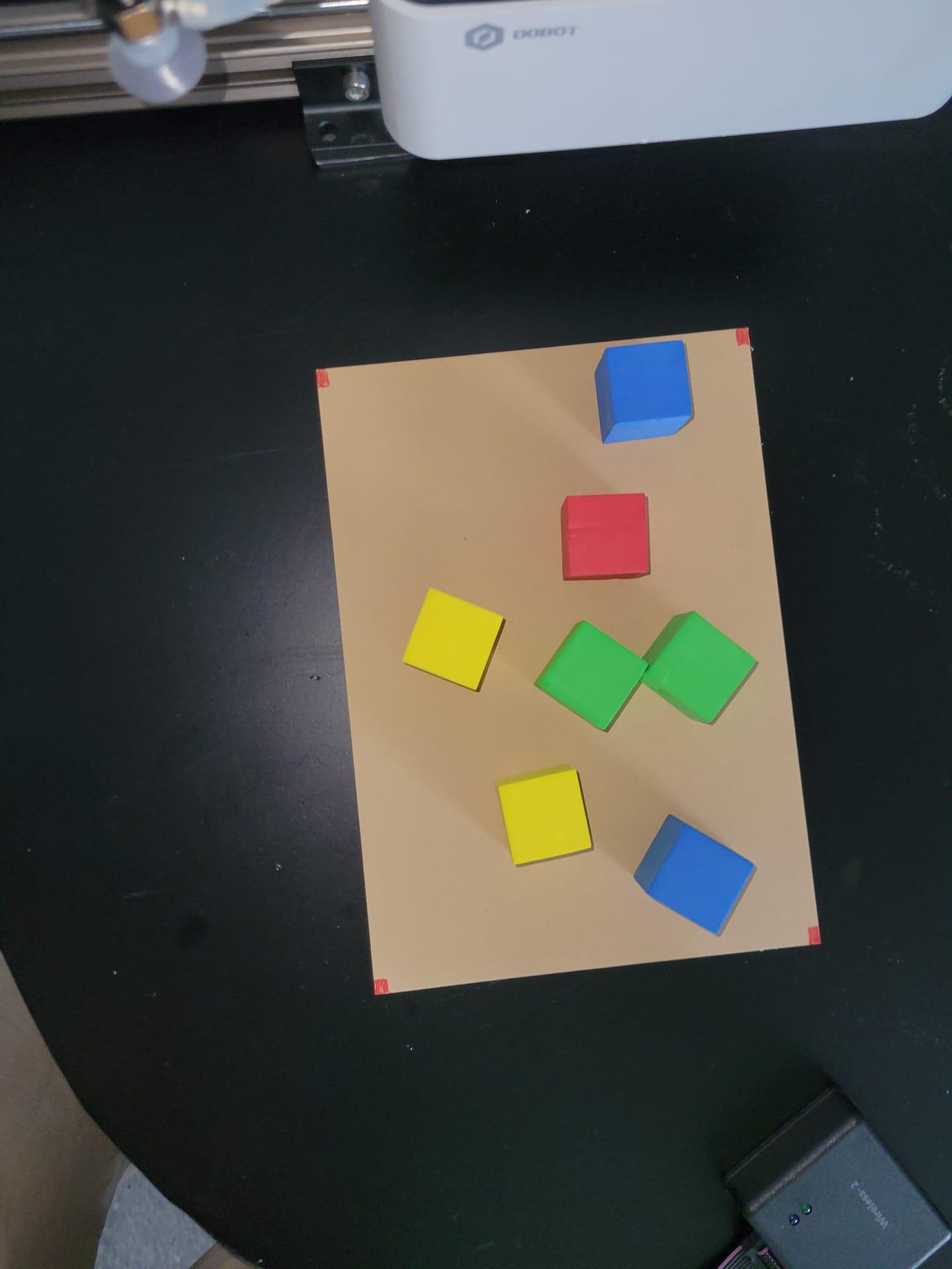cube: (639, 818, 756, 936), (647, 612, 762, 727), (535, 623, 645, 729), (401, 590, 507, 696), (499, 766, 593, 866), (601, 343, 691, 441), (567, 494, 645, 581)
